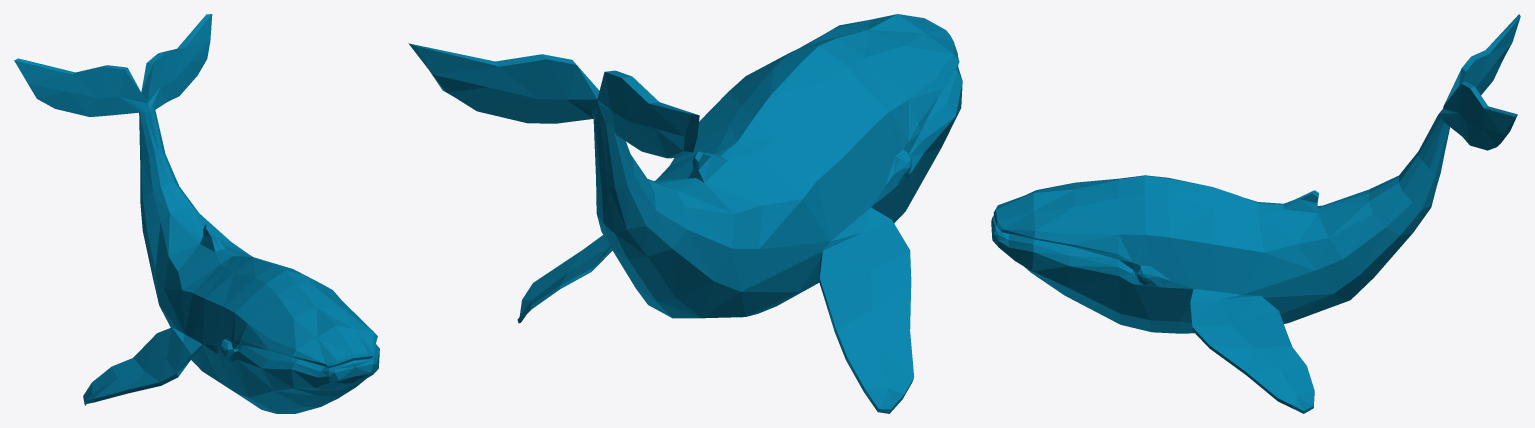
Rendered from whale_low_poly.fbx.
3 views of the same model, side by side, from view 1: azimuth 30°, elevation 25°; view 2: azimuth 150°, elevation 25°; view 3: azimuth 270°, elevation 25° (orthographic). The views are drawn at different scales.
Visible parts, largest first — view 1: Whale; view 2: Whale; view 3: Whale.
Boxes of the visible parts, left/top/right/bottom form: Whale: left=14, top=14, right=379, bottom=413; Whale: left=408, top=14, right=962, bottom=413; Whale: left=991, top=14, right=1520, bottom=413.
Bounding box in the file's own units: 7.01 × 6.93 × 11.67.
